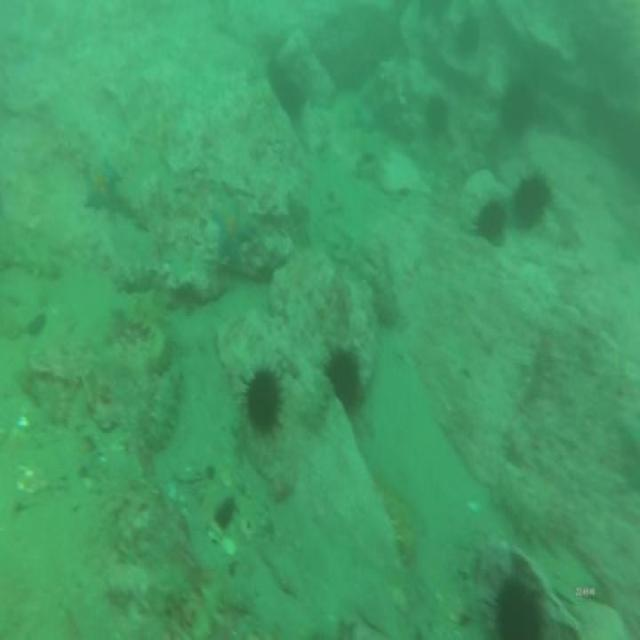echinus: (487, 561, 542, 640), (237, 359, 287, 441), (513, 170, 555, 230), (496, 77, 537, 136), (471, 190, 510, 243), (272, 70, 305, 126), (422, 89, 452, 139), (454, 12, 483, 62)
holothurian: (188, 577, 263, 640), (370, 469, 417, 561), (123, 296, 175, 374), (148, 355, 186, 460), (300, 370, 336, 433)
starfish: (205, 182, 255, 268), (78, 154, 122, 216)
